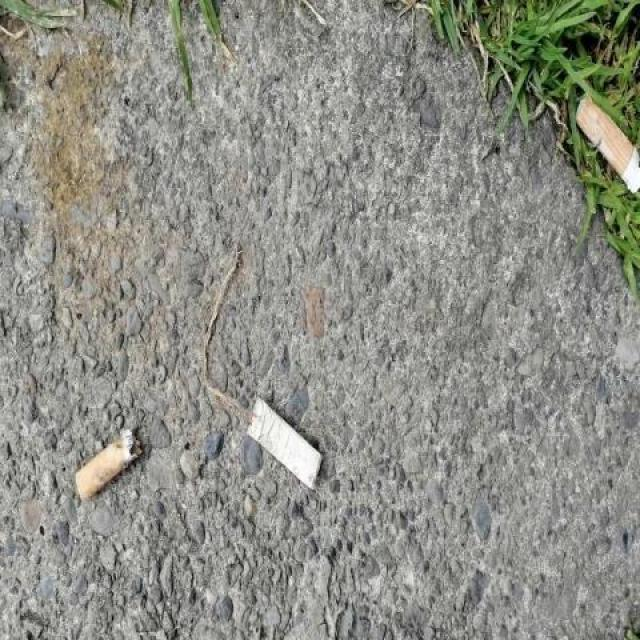non-organic waste: (244, 391, 328, 498), (570, 94, 640, 200), (70, 424, 146, 504)
